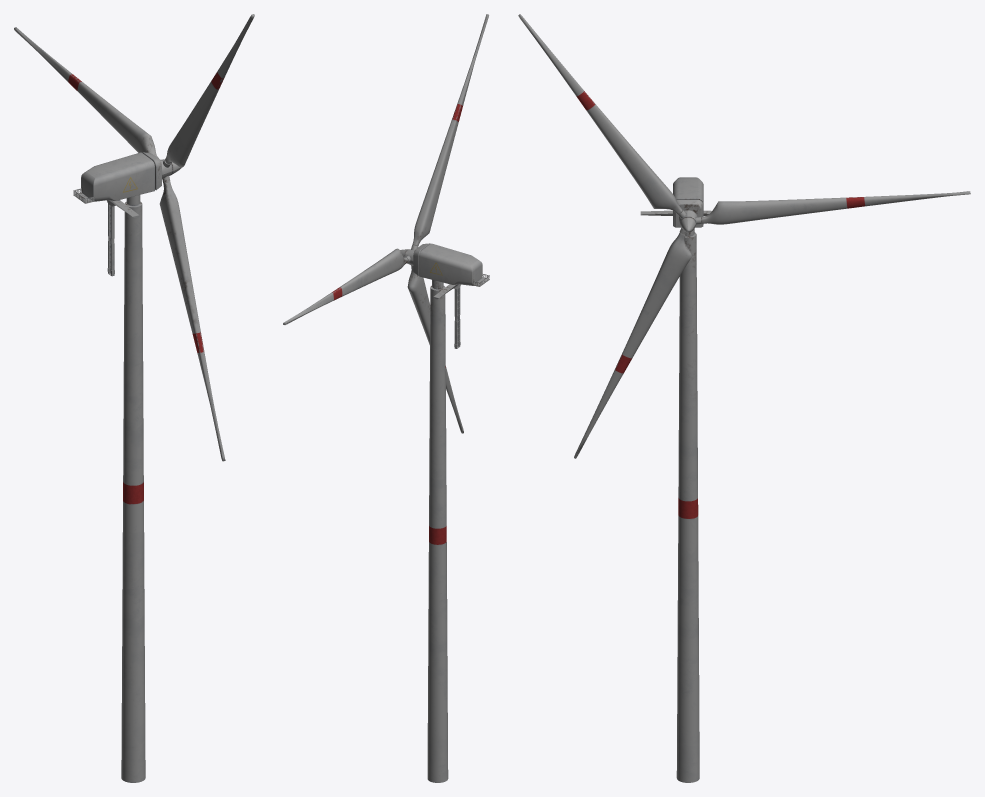
The model's file is wind_tubine_project_1.fbx.
The picture shows the model from 3 angles, left to right: view 1: azimuth 30°, elevation 25°; view 2: azimuth 150°, elevation 25°; view 3: azimuth 270°, elevation 25°; orthographic projection. The views are drawn at different scales.
Parts seen in each view (by area): view 1: body, propeller, hull, hull piece, red; view 2: body, propeller, hull, hull piece; view 3: body, propeller, hull.
Part boxes in pixels (x1,y1,x2,y2): body: [121, 195, 145, 782]; propeller: [14, 14, 254, 461]; hull: [81, 152, 161, 201]; hull piece: [107, 200, 139, 276]; red: [68, 72, 223, 352]; body: [427, 280, 448, 782]; propeller: [283, 14, 488, 433]; hull: [413, 243, 482, 285]; hull piece: [433, 284, 460, 348]; body: [676, 229, 699, 782]; propeller: [518, 14, 970, 458]; hull: [673, 177, 703, 227].
Size of the model in its own units: 1375 by 10264 by 5406.
Materials: 2 (2 with a texture image).
